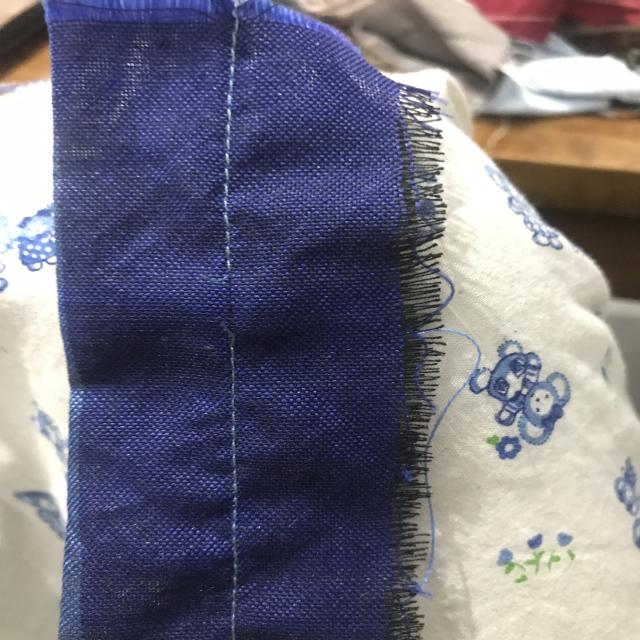broken: (190, 257, 266, 365)
good: (214, 115, 242, 208)
